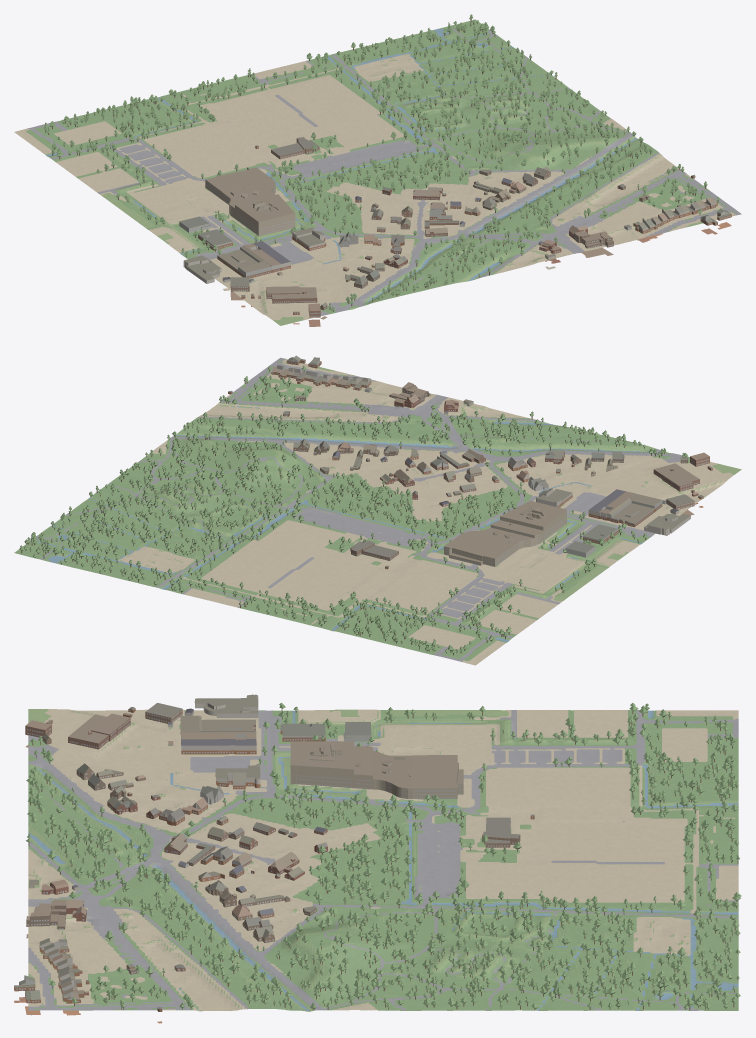
The model's file is bosven-veghel_x331_y808.glb.
The picture shows the model from 3 angles, top to bottom: view 1: azimuth 30°, elevation 25°; view 2: azimuth 150°, elevation 25°; view 3: azimuth 270°, elevation 25°; orthographic projection. The views are drawn at different scales.
Visible parts, largest first — view 1: class:green, class:sand, class:tree, class:road, class:roof, class:grass, class:wall, class:trunk, class:water, class:trim; view 2: class:green, class:sand, class:tree, class:road, class:roof, class:grass, class:wall, class:trunk, class:water, class:trim; view 3: class:green, class:sand, class:tree, class:road, class:roof, class:grass, class:wall, class:water, class:trunk, class:trim.
Boxes of the visible parts, box(x1,y1,x2,y2) form: class:green: box(26, 19, 737, 313); class:sand: box(14, 54, 735, 320); class:tree: box(44, 14, 719, 310); class:road: box(27, 27, 741, 315); class:roof: box(179, 137, 731, 312); class:grass: box(29, 32, 728, 325); class:wall: box(179, 138, 731, 326); class:trunk: box(45, 19, 718, 311); class:water: box(46, 28, 671, 302); class:trim: box(180, 142, 731, 316); class:green: box(14, 360, 689, 661); class:sand: box(118, 359, 733, 665); class:tree: box(19, 365, 687, 653); class:road: box(30, 357, 682, 661); class:roof: box(228, 355, 712, 566); class:grass: box(28, 363, 741, 660); class:wall: box(228, 358, 712, 569); class:trunk: box(21, 370, 685, 655); class:water: box(37, 405, 648, 642); class:trim: box(272, 360, 712, 568); class:green: box(28, 710, 738, 1010); class:sand: box(28, 709, 738, 1010); class:tree: box(26, 702, 741, 1009); class:road: box(28, 710, 738, 1010); class:roof: box(14, 694, 534, 1009); class:grass: box(28, 709, 738, 1011); class:wall: box(14, 696, 534, 1023); class:water: box(28, 710, 738, 1011); class:trunk: box(28, 709, 738, 1010); class:trim: box(14, 701, 533, 1002).
Size of the model in its own units: 515 by 27.33 by 512.
